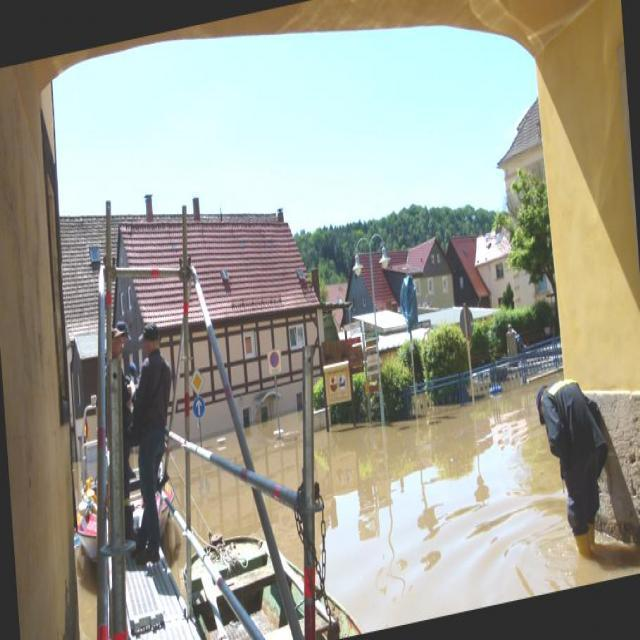flood: (304, 348, 590, 640)
